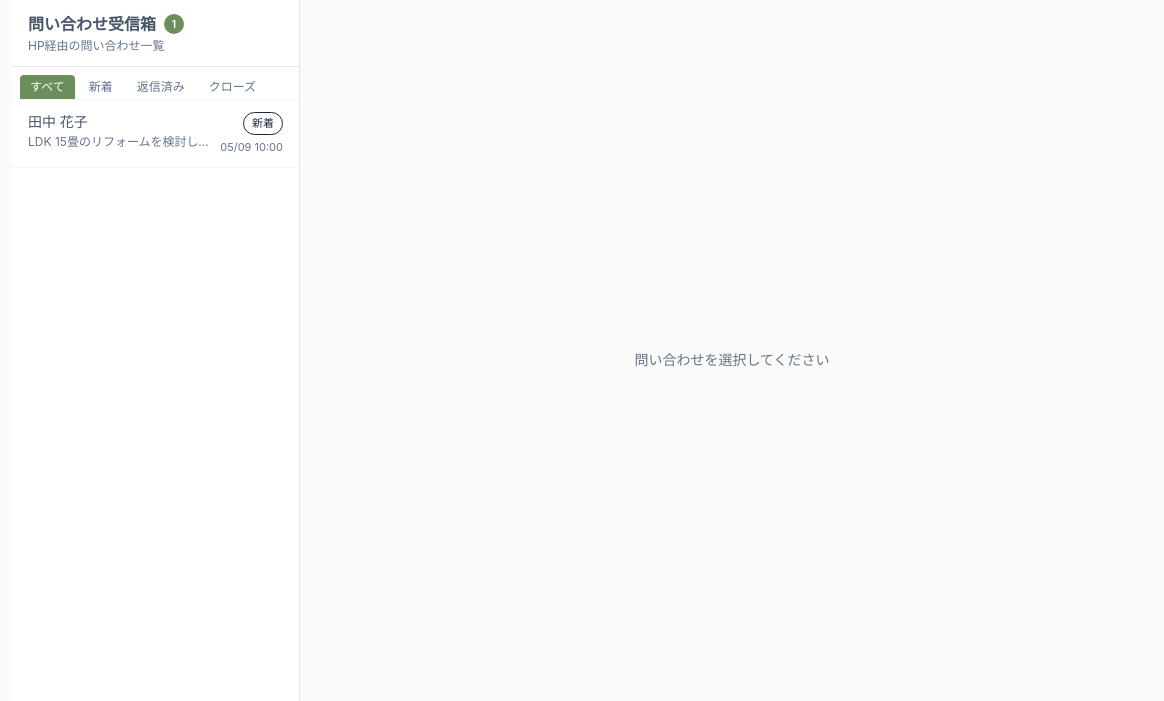
InquiryInboxPage — 詳細表示 › 詳細に概算レンジ (梅/竹/松) が表示される
Click the text "田中 花子" at [58, 122], box [28, 113, 88, 130]
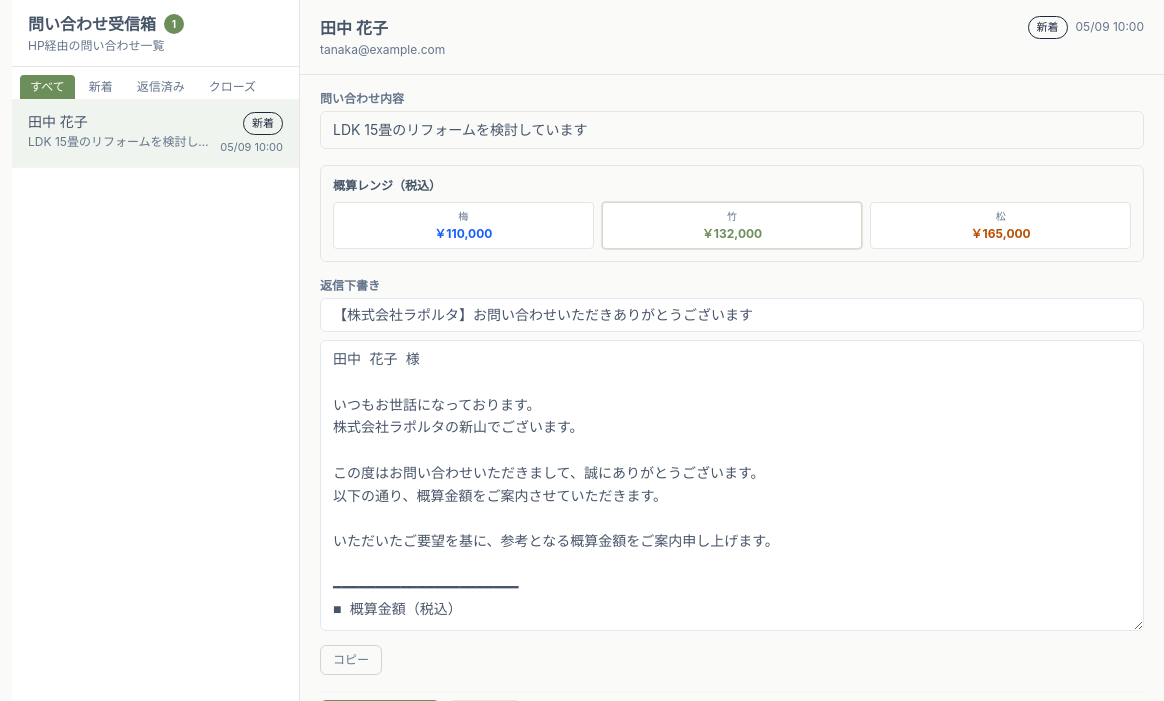
Expected: the text "梅" is shown, [458, 210, 468, 222]
Expected: the text "竹" is shown, [727, 210, 737, 222]
Expected: the text "松" is shown, [996, 210, 1006, 222]
